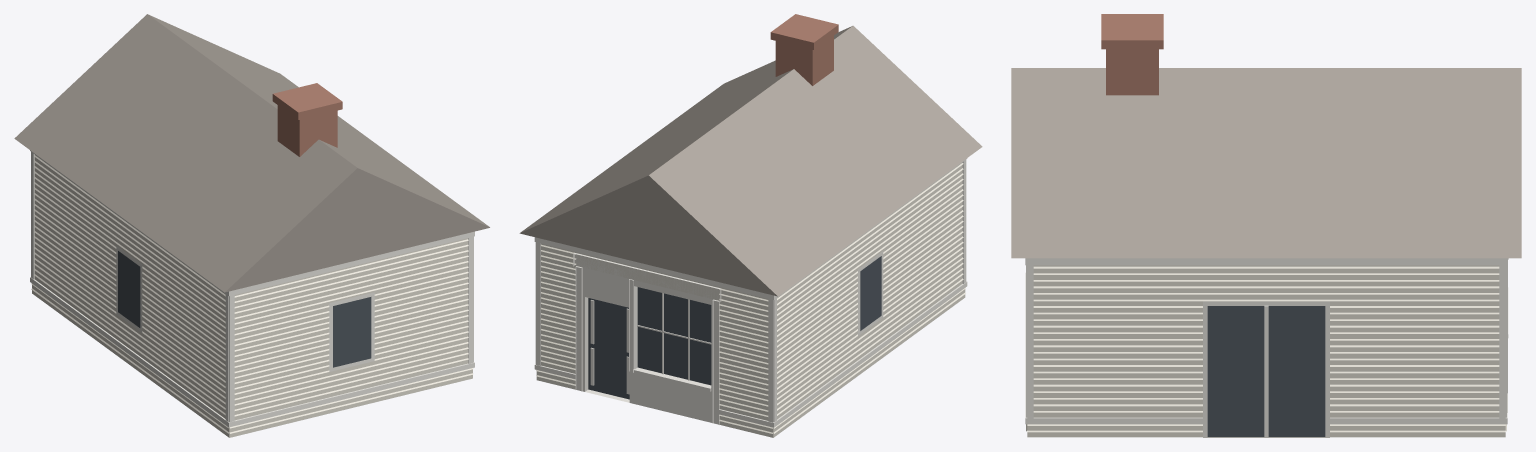
Rendered from recon_1835_north_c1_047__inferred_1835.glb.
3 renders of one model, left to right at view 1: azimuth 30°, elevation 25°; view 2: azimuth 150°, elevation 25°; view 3: azimuth 270°, elevation 25°, orthographic. The views are drawn at different scales.
Visible parts, largest first — view 1: recon_1835_north_c1_047__inferred_1835; view 2: recon_1835_north_c1_047__inferred_1835; view 3: recon_1835_north_c1_047__inferred_1835.
Part boxes in pixels (left/top/right/bottom): recon_1835_north_c1_047__inferred_1835: left=14, top=14, right=489, bottom=437; recon_1835_north_c1_047__inferred_1835: left=519, top=14, right=982, bottom=437; recon_1835_north_c1_047__inferred_1835: left=1011, top=14, right=1521, bottom=437.
Bounding box in the file's own units: 5.87 × 5.88 × 8.04.
